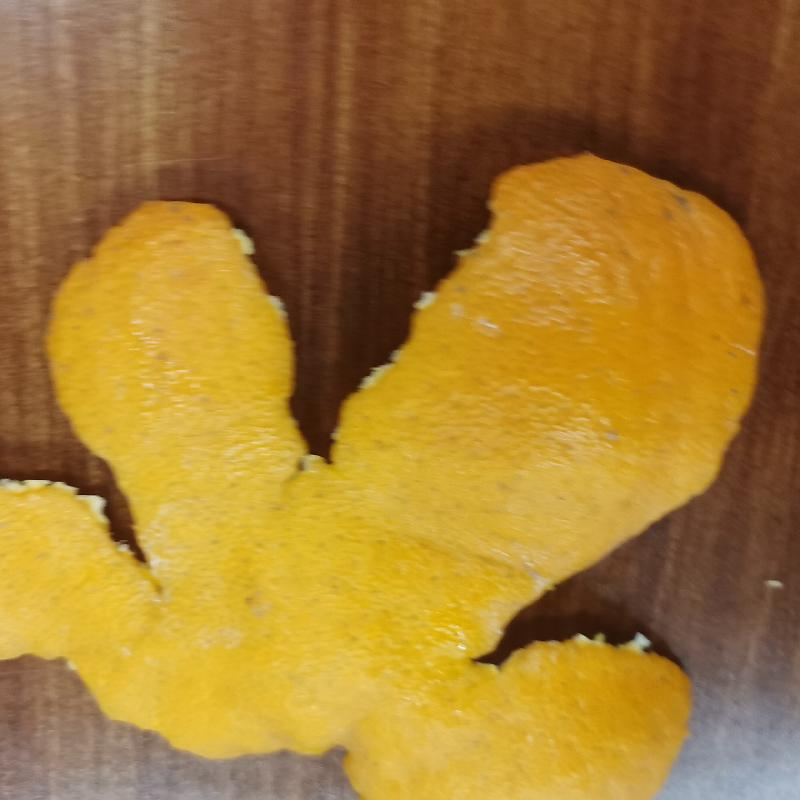orange: (11, 153, 764, 799)
